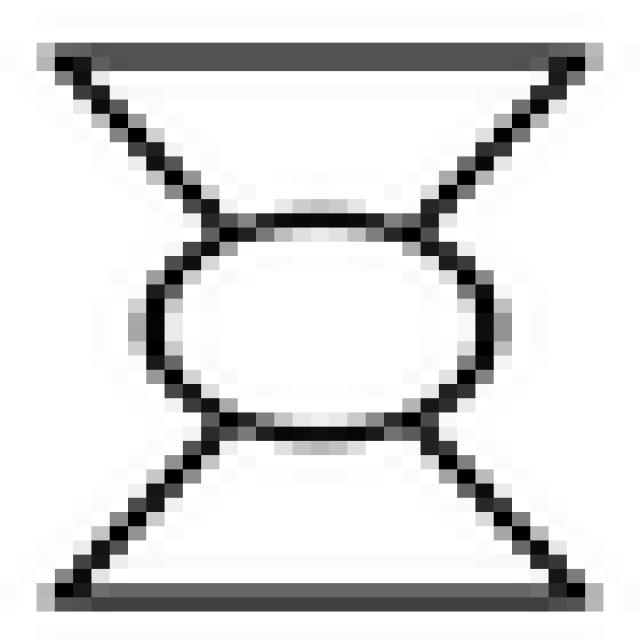ball valve: (42, 43, 599, 613)
